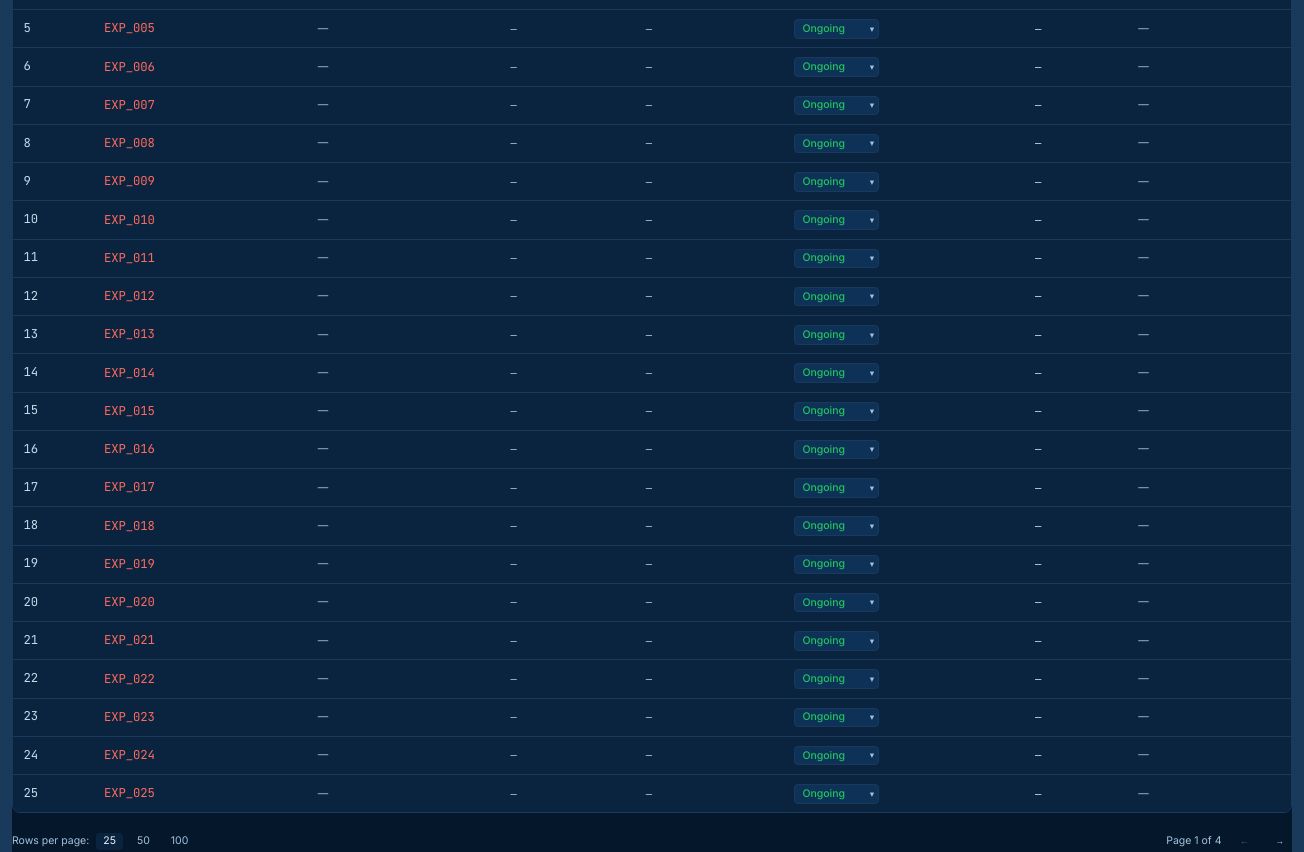
Test: ExperimentListPage — pagination reset on filter › resets to page 1 when status filter is applied on page 2
(page scrolled)
Expected: the text "Page 1 of 4" is shown, [1166,834,1222,848]
// Navigate to page 2
Click the button "→".
click(1280, 841)  # box [1267,831,1292,851]
(page scrolled)
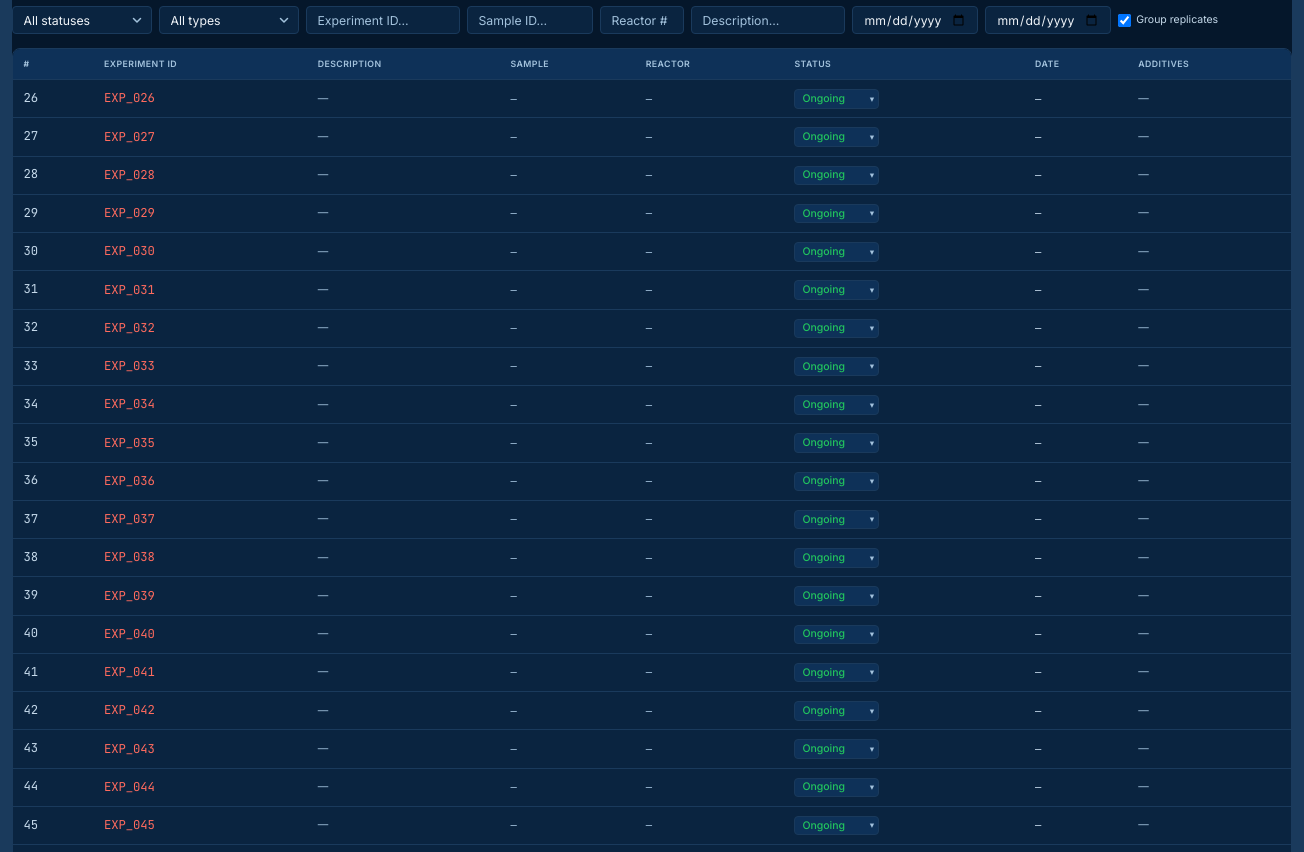
// Apply status filter
Select "Completed" in the dropdown named "status filter" at [82, 20], box [12,6,152,34]
(page scrolled)
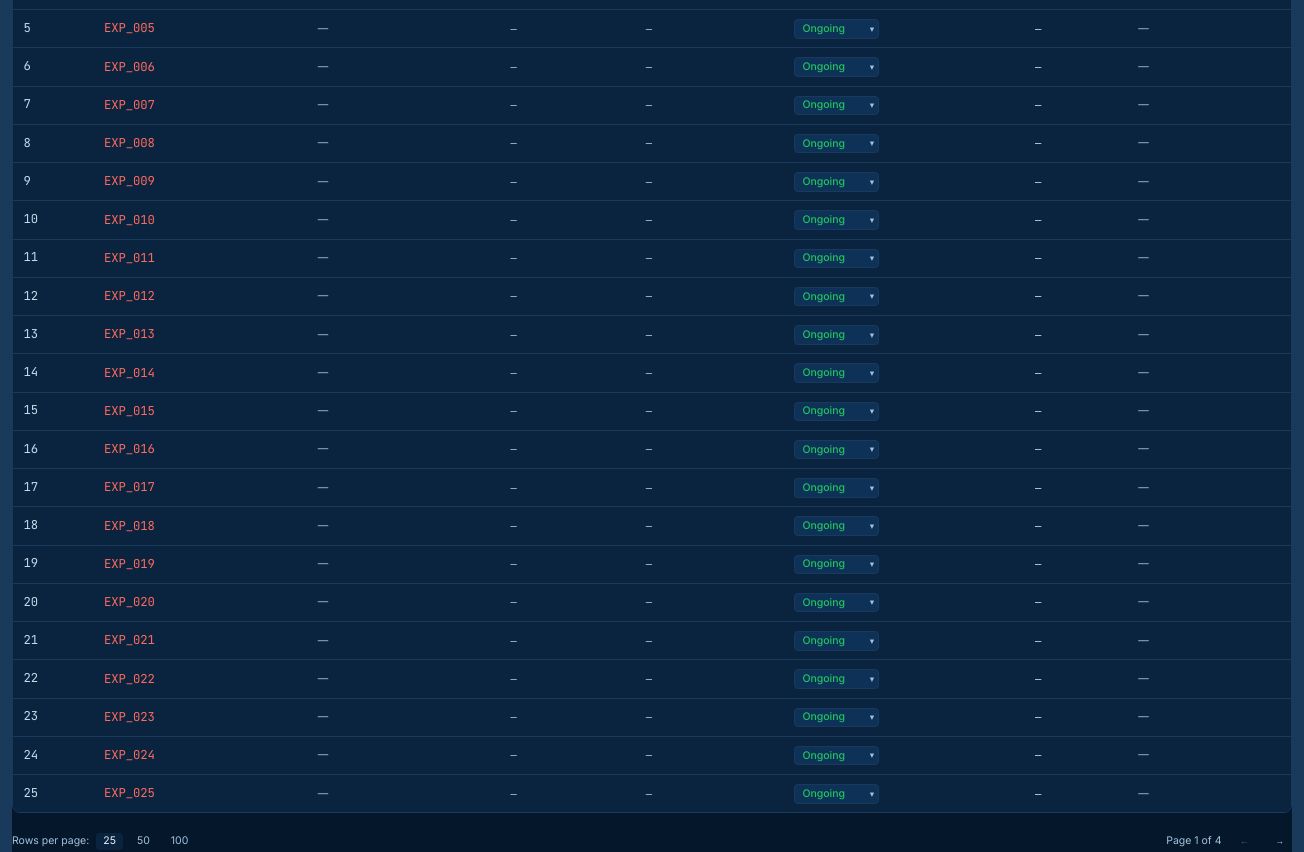
Expected: the text "Page 1 of 4" is shown, [1166,834,1222,848]
